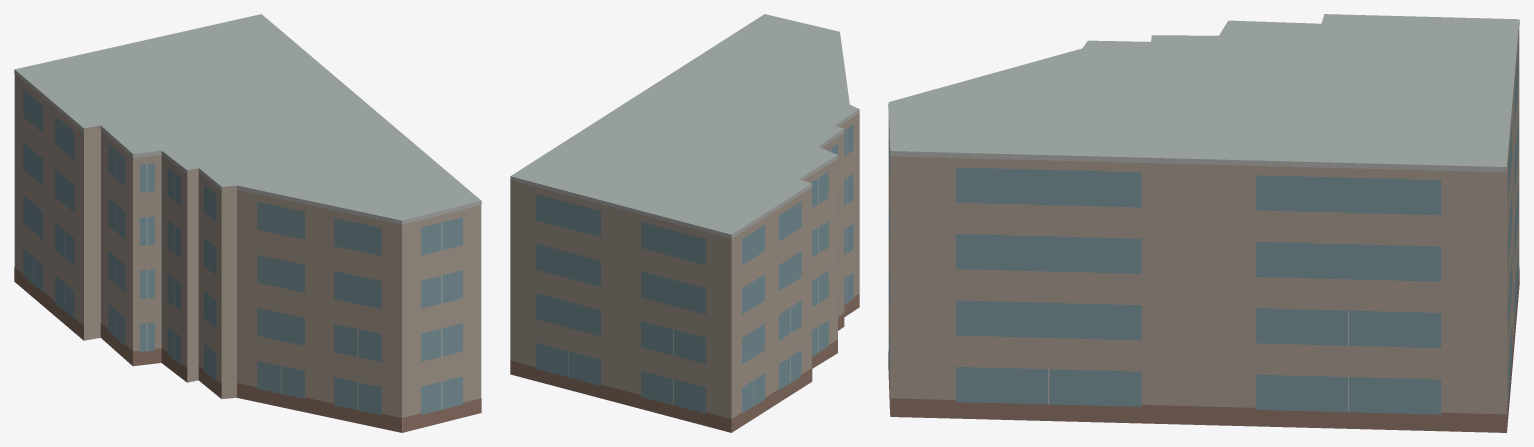
Rendered from survey-upis-32603711.glb.
The picture shows the model from 3 angles, left to right: view 1: azimuth 30°, elevation 25°; view 2: azimuth 150°, elevation 25°; view 3: azimuth 270°, elevation 25°; orthographic projection. The views are drawn at different scales.
Parts seen in each view (by area): view 1: survey-upis-32603711.tmp; view 2: survey-upis-32603711.tmp; view 3: survey-upis-32603711.tmp.
Part boxes in pixels (x1=…): survey-upis-32603711.tmp: x1=14, y1=14, x2=481, y2=432; survey-upis-32603711.tmp: x1=510, y1=14, x2=859, y2=432; survey-upis-32603711.tmp: x1=888, y1=14, x2=1519, y2=432.
Size of the model in its own units: 15.07 by 12.2 by 26.25.
